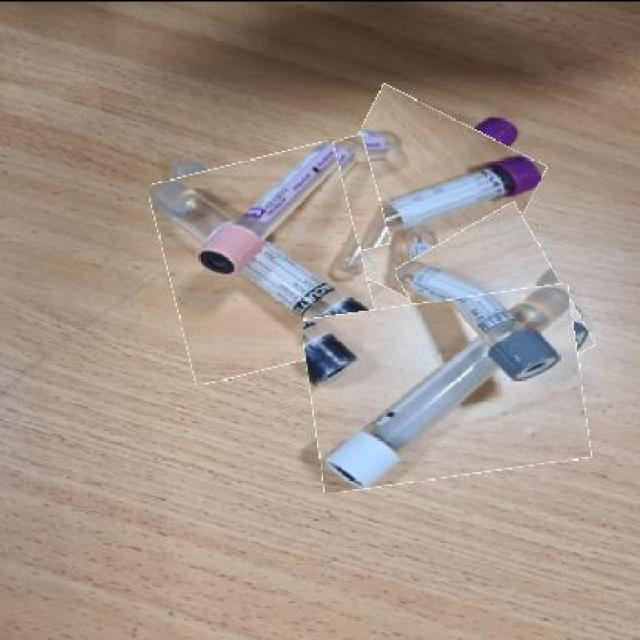Experimental-tube: (307, 290, 587, 484), (158, 148, 371, 374), (318, 98, 532, 310), (410, 212, 579, 399), (194, 144, 386, 276)
